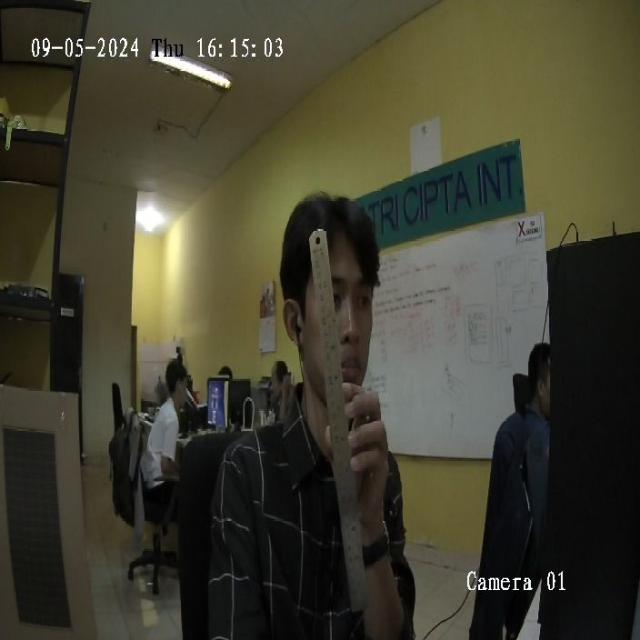Ruler: (309, 230, 369, 610)
